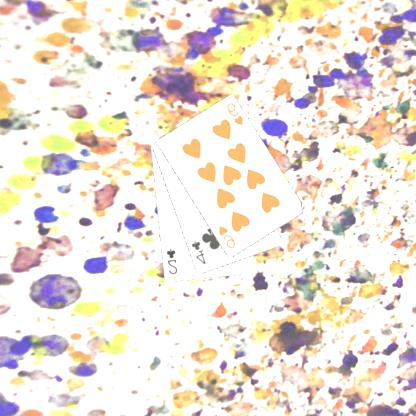2C: (165, 246, 180, 276)
4C: (190, 238, 209, 266)
9H: (217, 223, 239, 250), (226, 100, 246, 127)
